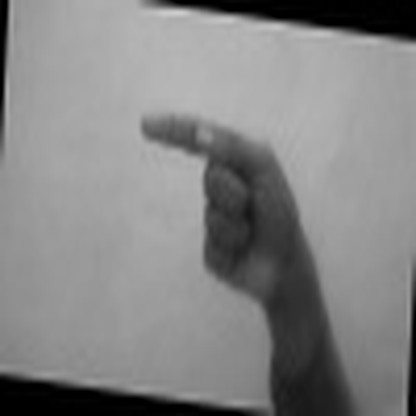g: (113, 109, 333, 297)
